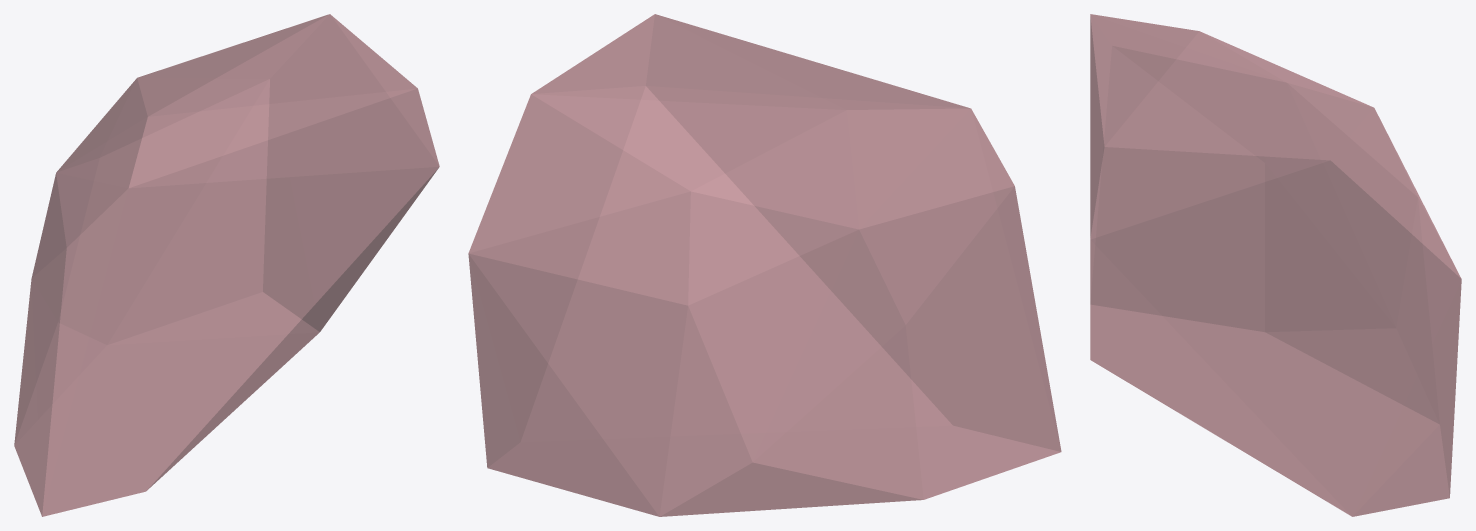
3 views of the same model, side by side, from view 1: azimuth 30°, elevation 25°; view 2: azimuth 150°, elevation 25°; view 3: azimuth 270°, elevation 25° (orthographic). The views are drawn at different scales.
Visible parts, largest first — view 1: Shape_IndexedFaceSet.004_Shape_IndexedFaceSet.14680; view 2: Shape_IndexedFaceSet.004_Shape_IndexedFaceSet.14680; view 3: Shape_IndexedFaceSet.004_Shape_IndexedFaceSet.14680.
Boxes of the visible parts, x1,y1,x2,y2 form: Shape_IndexedFaceSet.004_Shape_IndexedFaceSet.14680: [14, 14, 439, 516]; Shape_IndexedFaceSet.004_Shape_IndexedFaceSet.14680: [468, 14, 1061, 516]; Shape_IndexedFaceSet.004_Shape_IndexedFaceSet.14680: [1090, 14, 1461, 516].
Bounding box in the file's own units: 0.0633 × 0.0503 × 0.0468.
